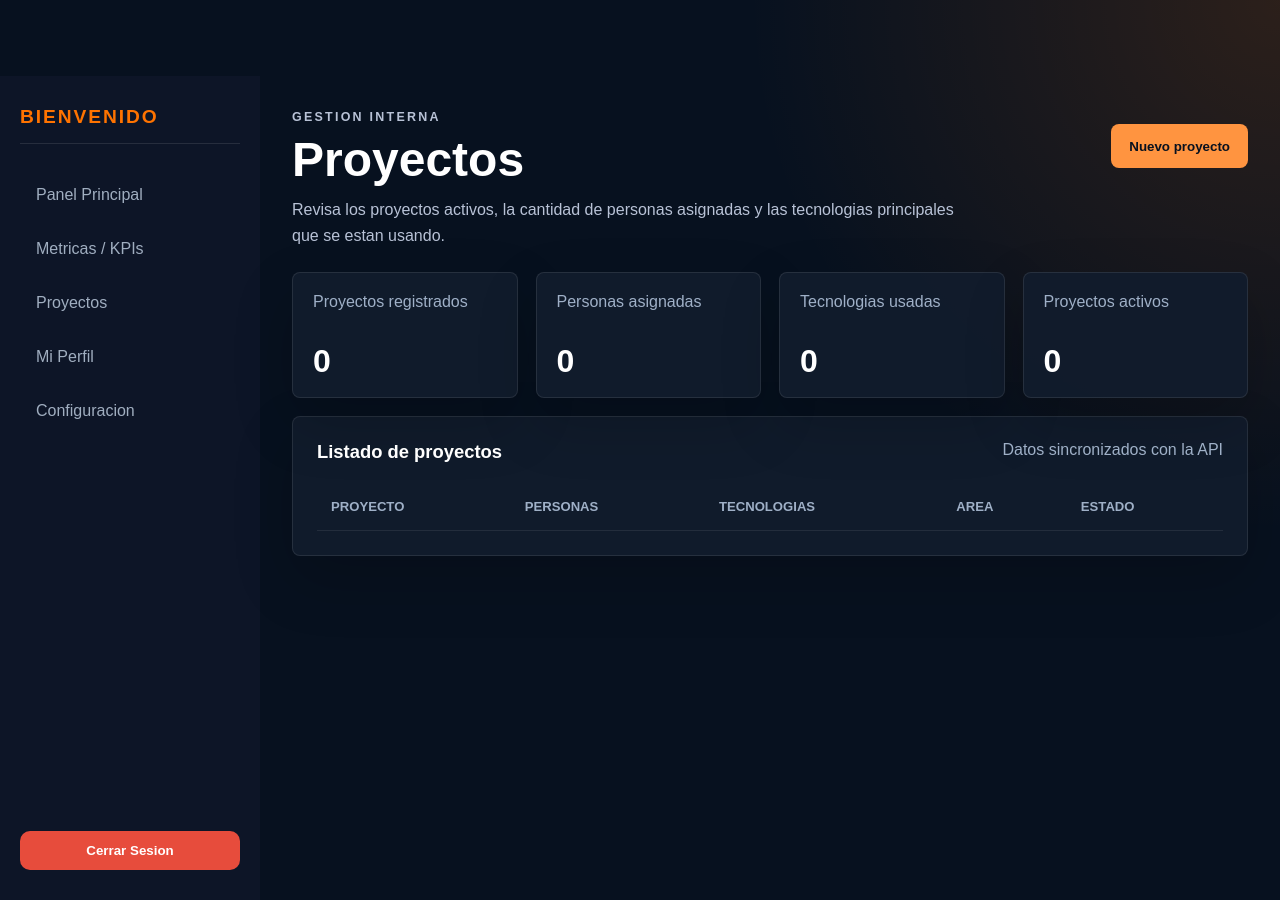
Test case: Componente Proyectos › 6. Maneja de manera exhaustiva las respuestas de error dinámicas enviadas por el backend
This screenshot has width=1280, height=900.
Click the button "Nuevo proyecto".
click(1180, 146)  # box [1111,124,1248,168]
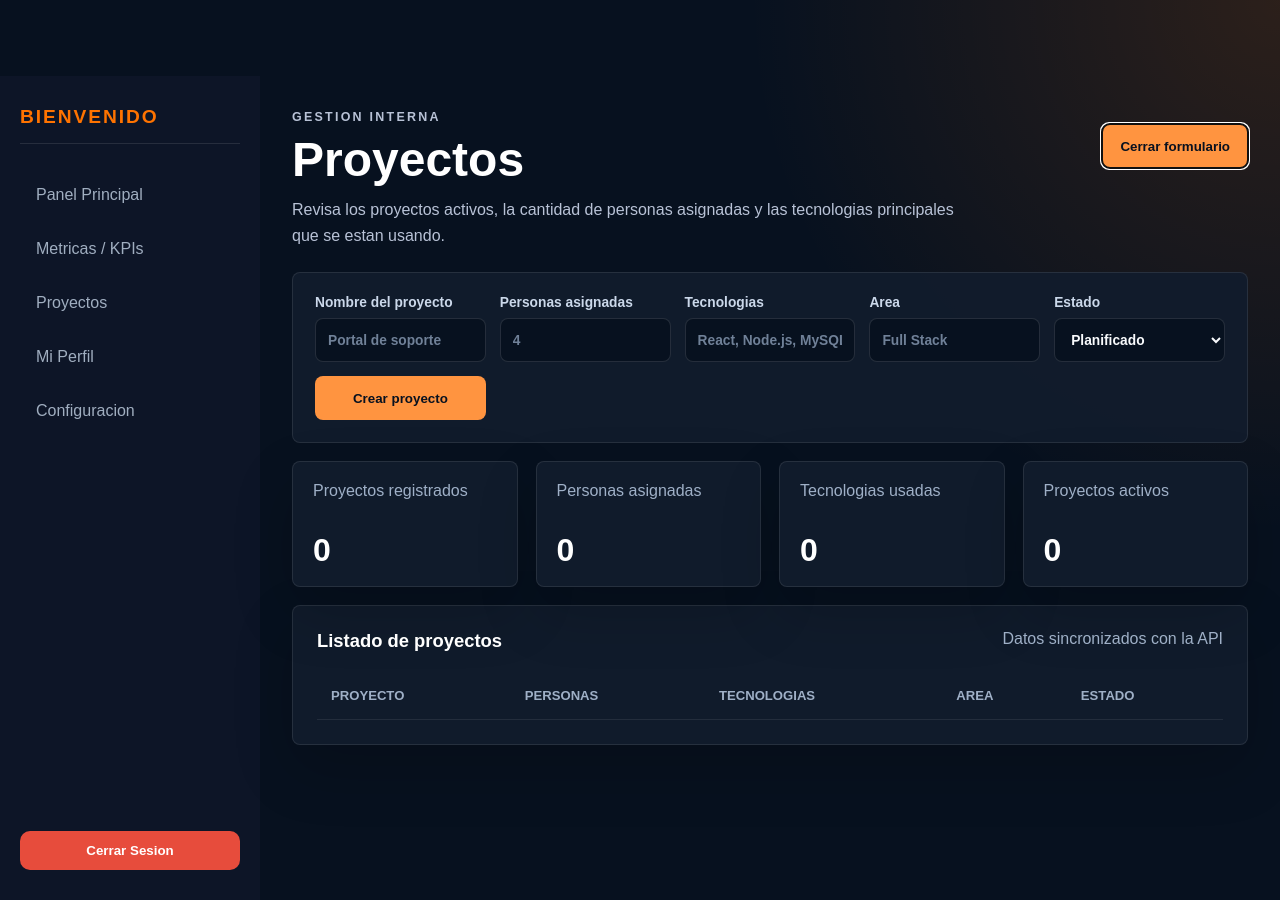
Type "Error Prueba" into the field labelled "Nombre del proyecto".
click(400, 340); type("Error Prueba")  # box [315,318,486,362]
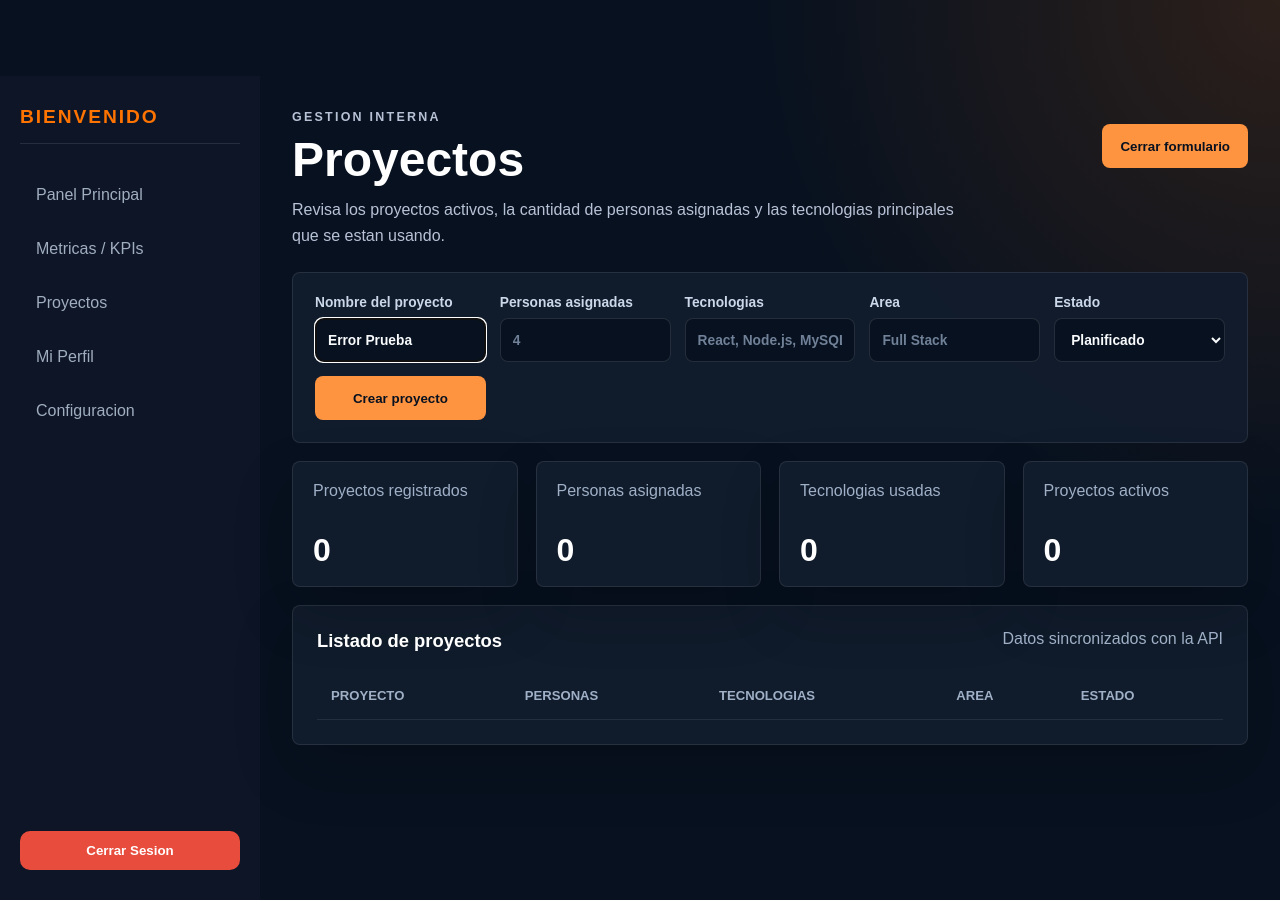
Type "1" into the number field labelled "Personas asignadas".
click(585, 340); type("1")  # box [500,318,671,362]
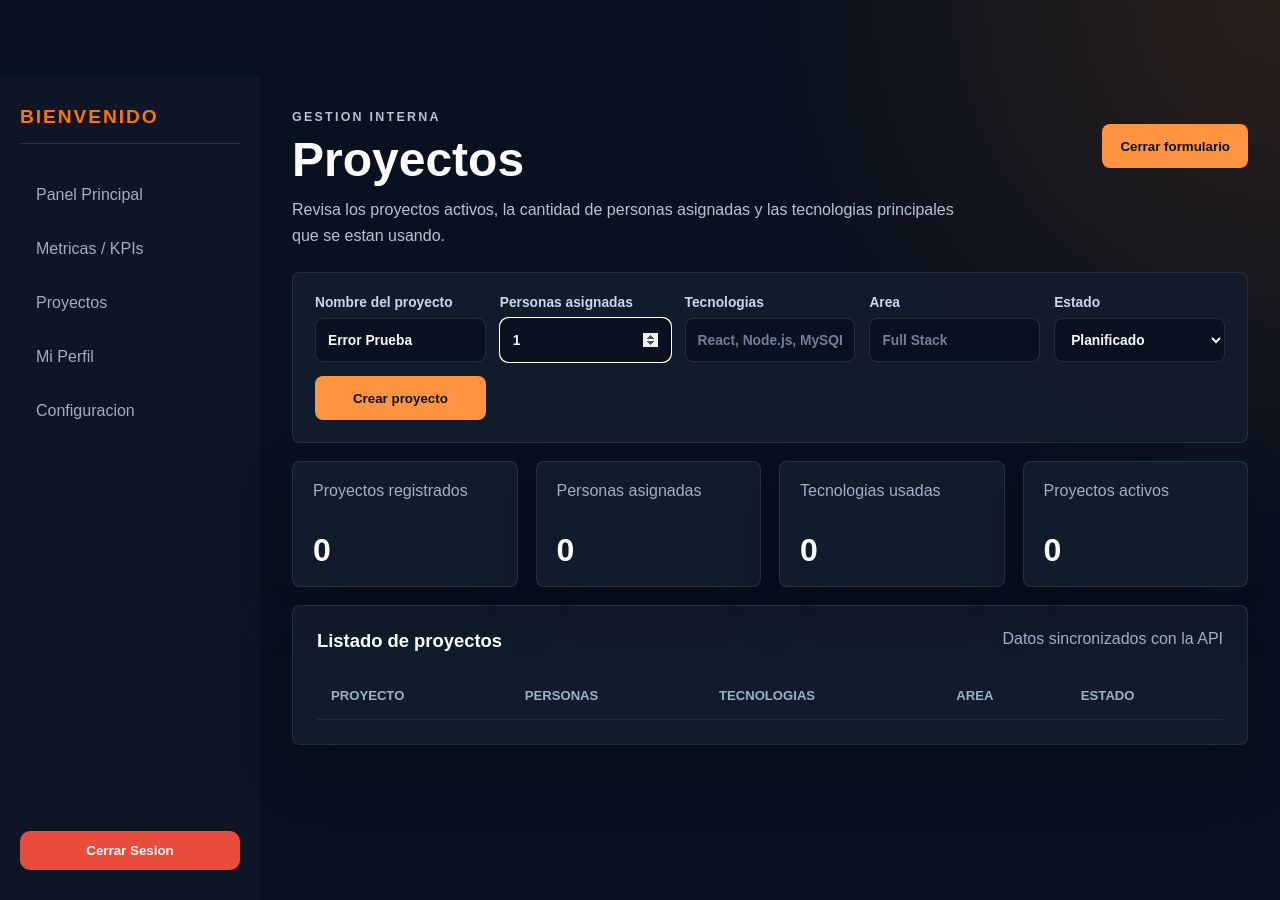
Type "Go" into the field labelled "Tecnologias".
click(770, 340); type("Go")  # box [685,318,855,362]
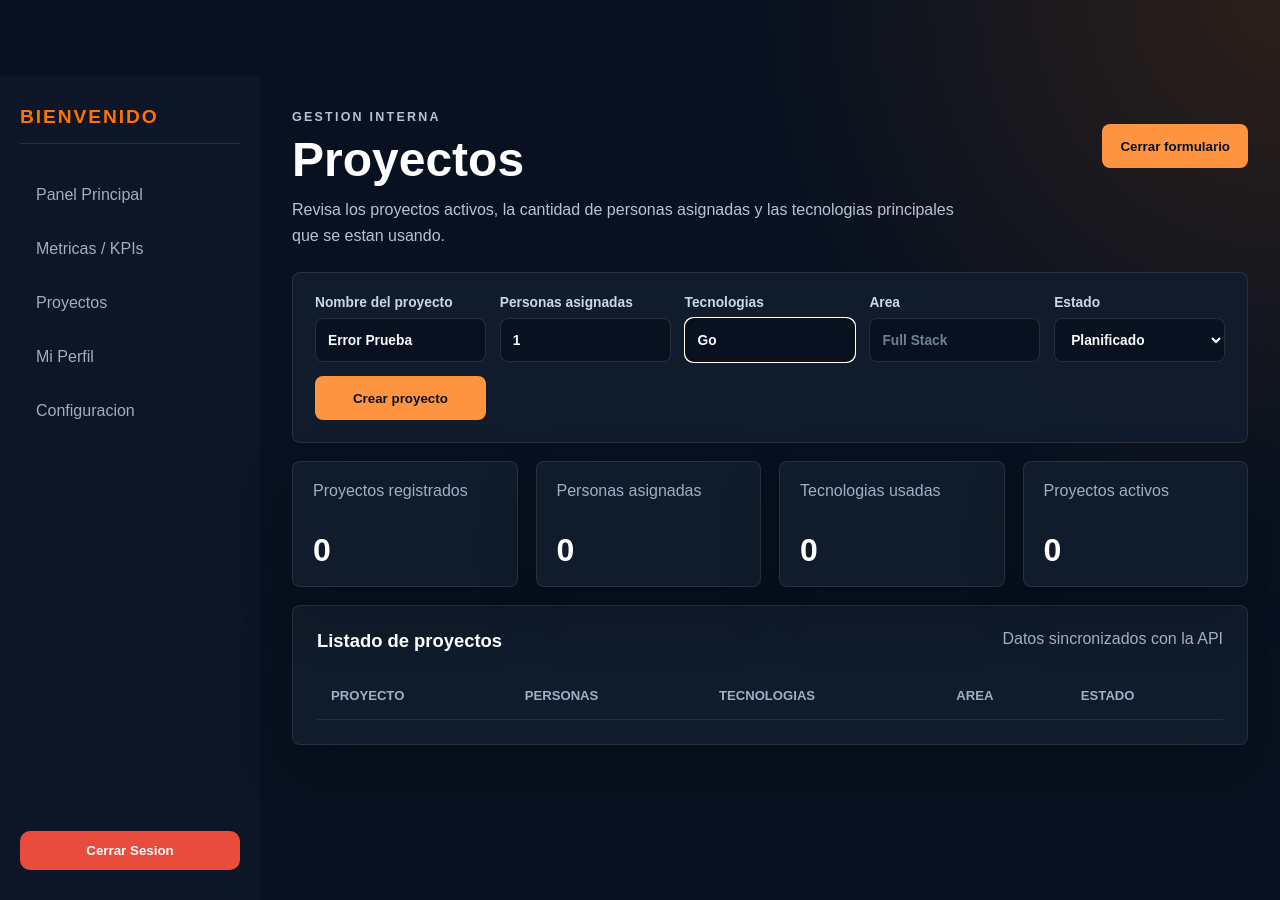
Type "QA" into the field labelled "Area".
click(955, 340); type("QA")  # box [869,318,1040,362]
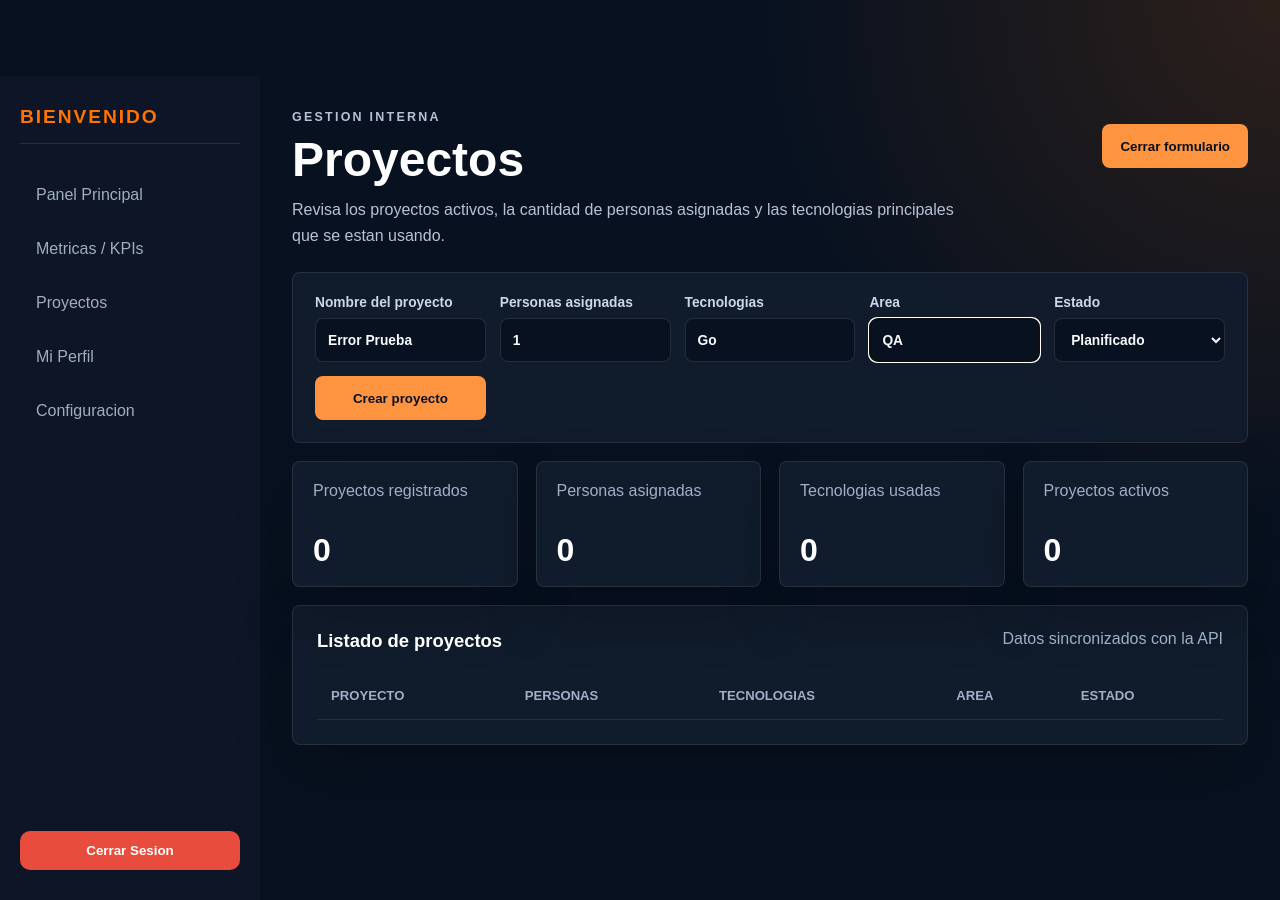
Click the button "Crear proyecto".
click(400, 398)  # box [315,376,486,420]
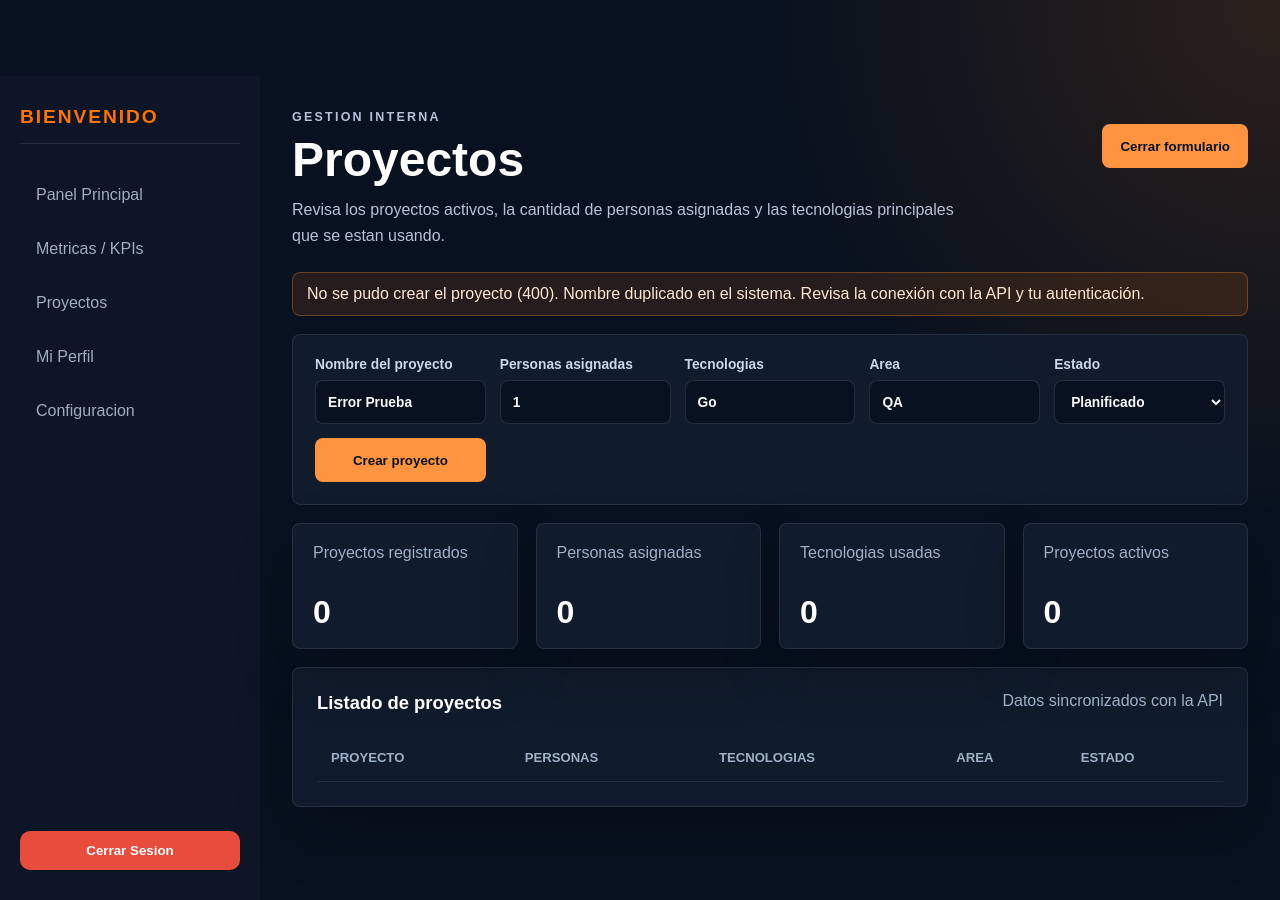
Result: the text "No se pudo crear el proyecto (400). Nombre duplicado en el sistema. Revisa la conexión con la API y tu autenticación." is shown at [307,285,1145,302]
